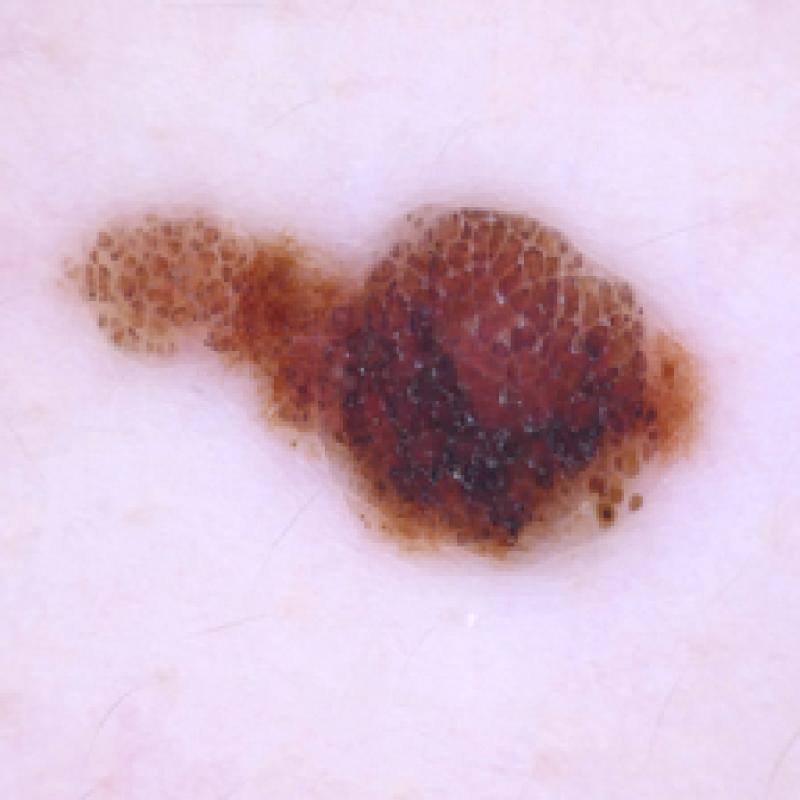benign: (58, 164, 710, 578)
